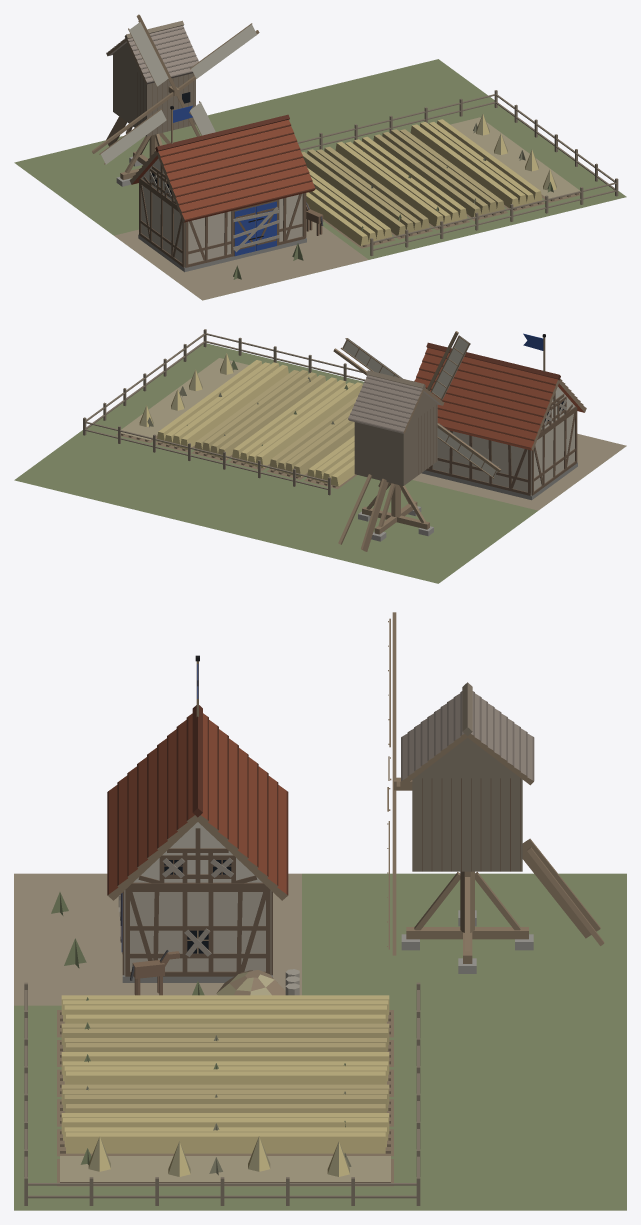
File: bauernhof.glb
3 views of the same model, one above another, from view 1: azimuth 30°, elevation 25°; view 2: azimuth 150°, elevation 25°; view 3: azimuth 270°, elevation 25° (orthographic). The views are drawn at different scales.
Parts seen in each view (by area): view 1: Haus, Arbeit, Leerstand; view 2: Haus, Arbeit; view 3: Haus, Arbeit, Leerstand.
Boxes of the visible parts, x1=… form: Haus: x1=14, y1=14, x2=626, y2=300; Arbeit: x1=101, y1=22, x2=579, y2=245; Leerstand: x1=149, y1=123, x2=553, y2=279; Haus: x1=14, y1=329, x2=626, y2=583; Arbeit: x1=121, y1=336, x2=498, y2=486; Haus: x1=14, y1=612, x2=626, y2=1210; Arbeit: x1=60, y1=950, x2=390, y2=1181; Leerstand: x1=51, y1=857, x2=351, y2=1175.
Size of the model in its own units: 26 by 11.01 by 20.
